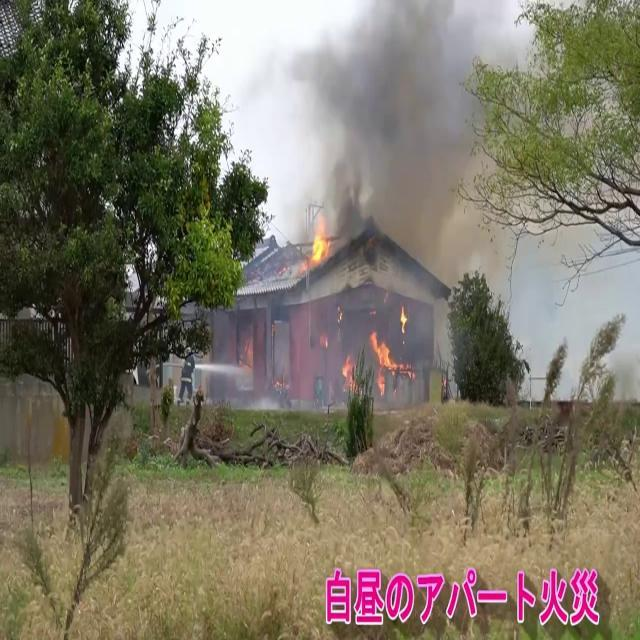Fire: (366, 324, 392, 395), (308, 215, 330, 271)
Smoke: (275, 0, 477, 240)
